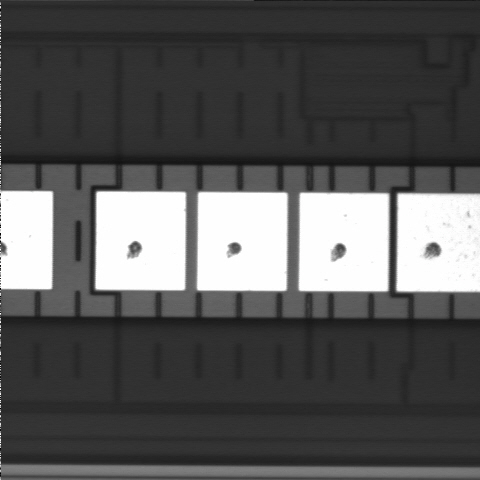pad: (197, 192, 287, 291), (96, 192, 186, 290), (299, 193, 389, 291)
